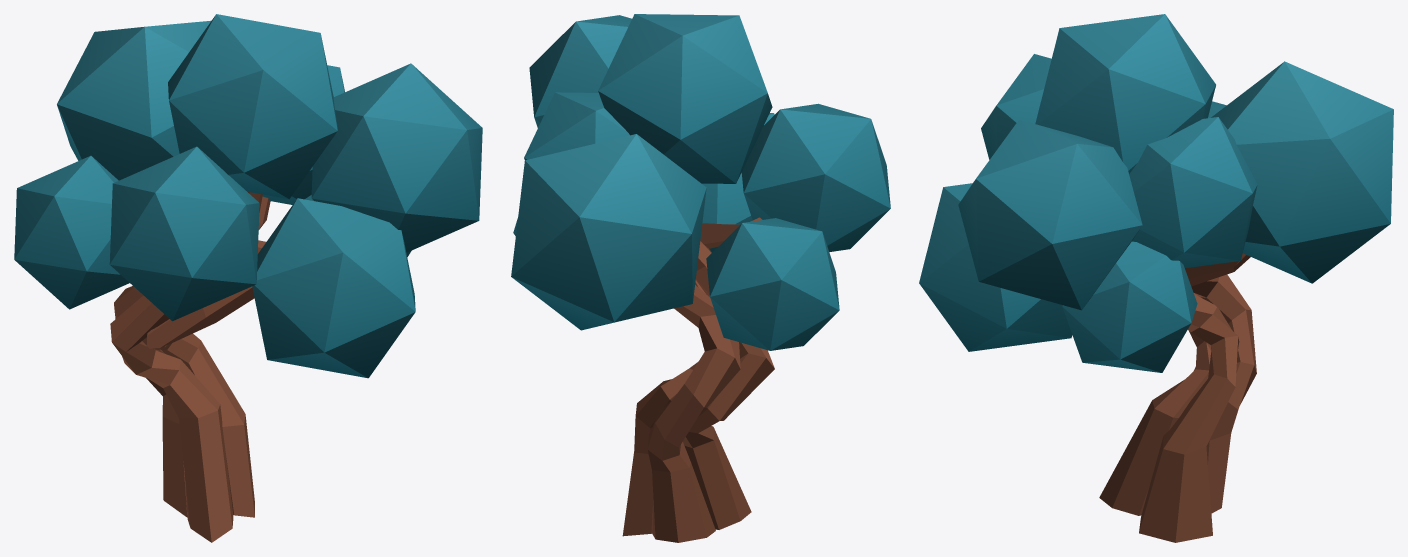
File: Tree_06_gradient_blue_vc.fbx
3 views of the same model, side by side, from view 1: azimuth 30°, elevation 25°; view 2: azimuth 150°, elevation 25°; view 3: azimuth 270°, elevation 25° (orthographic). The views are drawn at different scales.
Visible parts, largest first — view 1: Tree_06_gradient_blue_vc; view 2: Tree_06_gradient_blue_vc; view 3: Tree_06_gradient_blue_vc.
Part boxes in pixels (bbox=[...]): Tree_06_gradient_blue_vc: bbox=[14, 14, 482, 542]; Tree_06_gradient_blue_vc: bbox=[511, 14, 890, 542]; Tree_06_gradient_blue_vc: bbox=[919, 14, 1393, 542].
Bounding box in the file's own units: 488 × 598 × 507.
